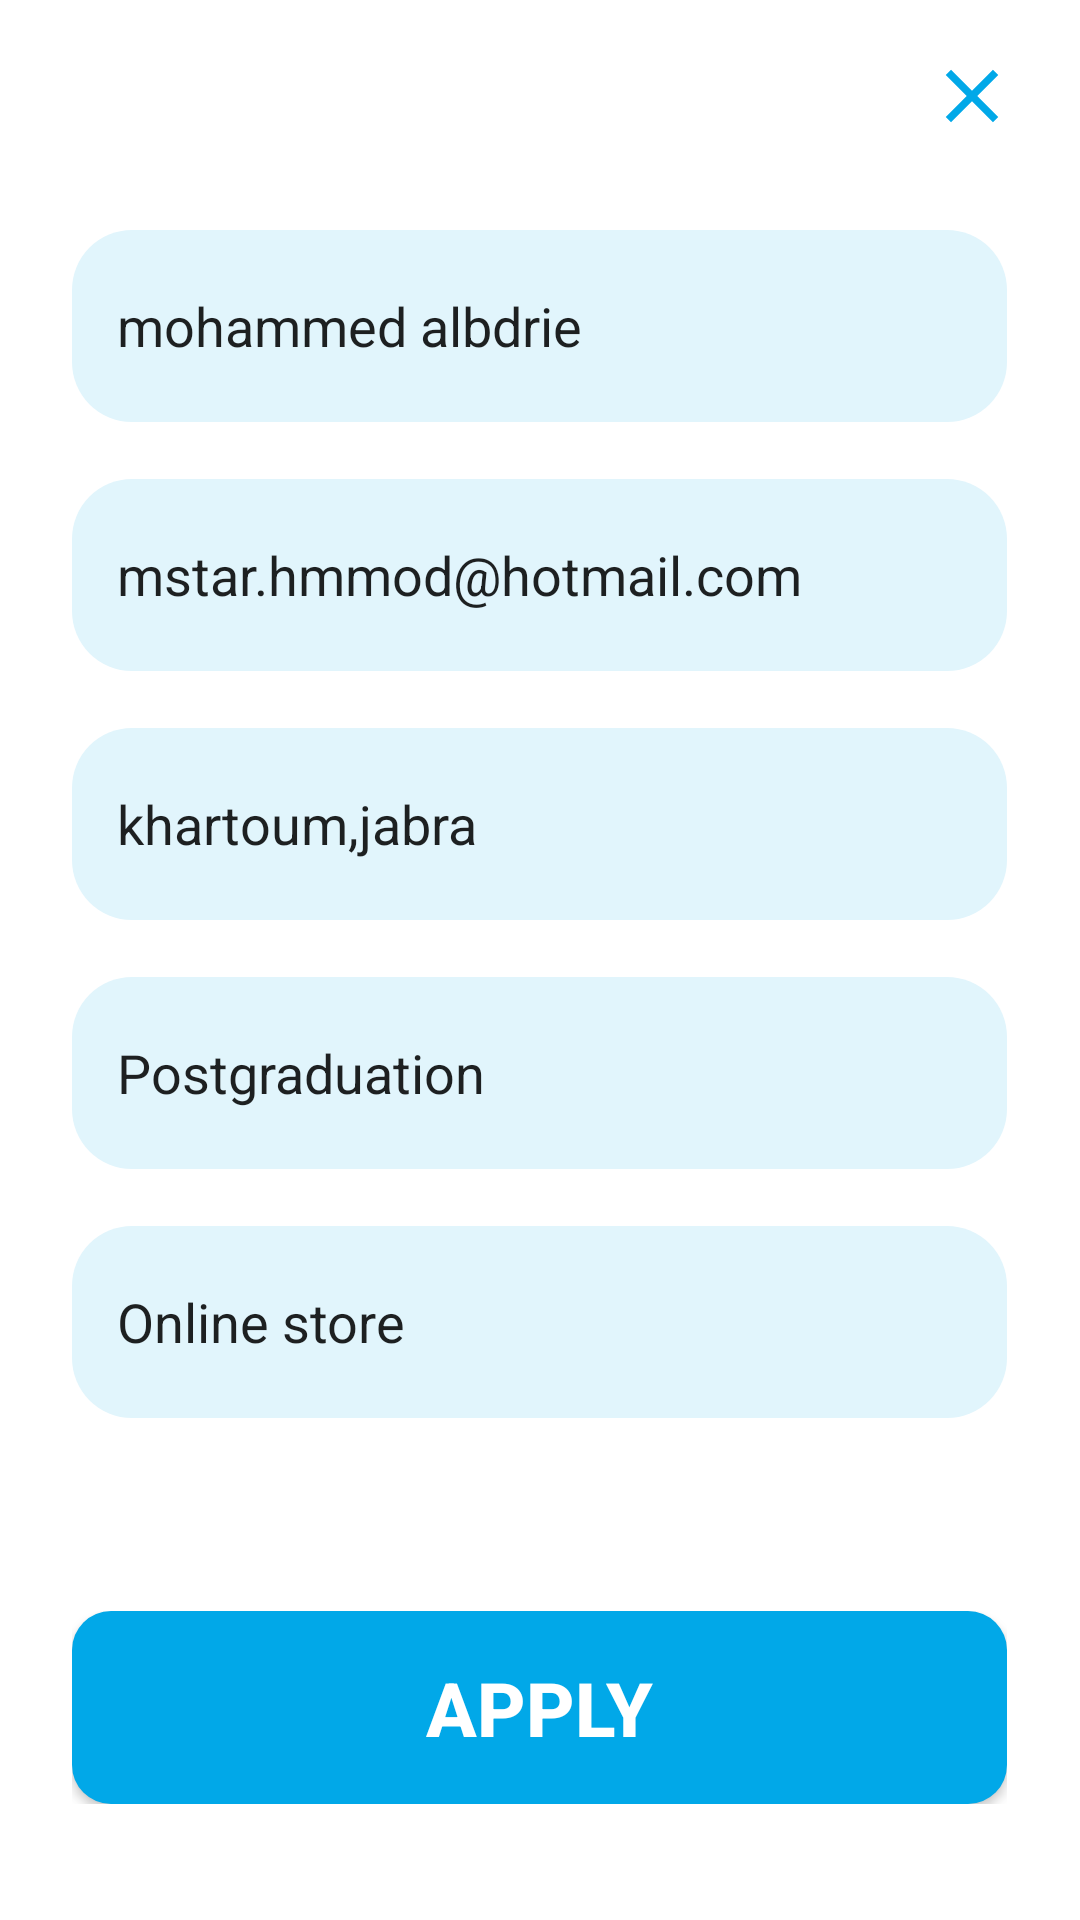

Icon click points for this 1080 × 1920 phone screenshot, format [x,y]:
close: [972,96]
